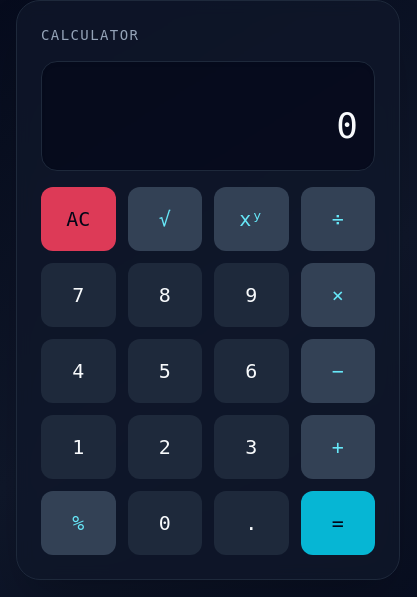
Scenario: <Calculator /> › performs a full add cycle via backend and shows pending indicator
This screenshot has width=417, height=597.
Step 1. Click the button "5" → (165, 371), box [128, 339, 202, 403]
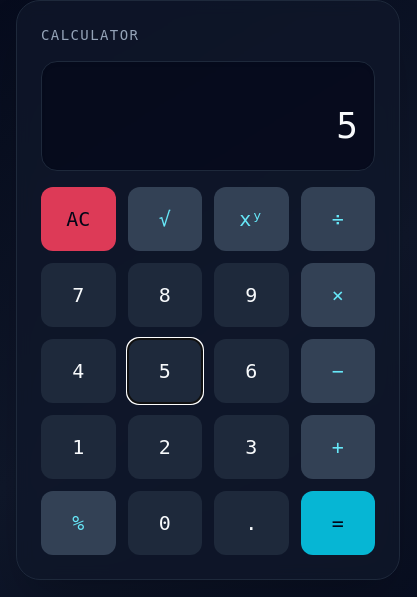
Step 2. Click the button named "add" → (338, 447), box [300, 415, 375, 479]
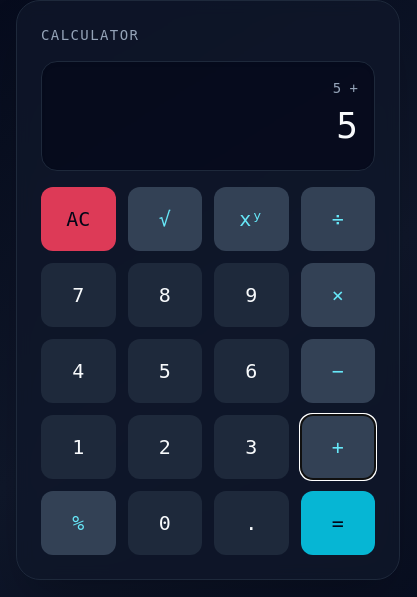
expect the text with test id "pending-indicator" reads "5 +": met, box [333, 80, 358, 96]
Step 3. Click the button "3" → (251, 447), box [214, 415, 288, 479]
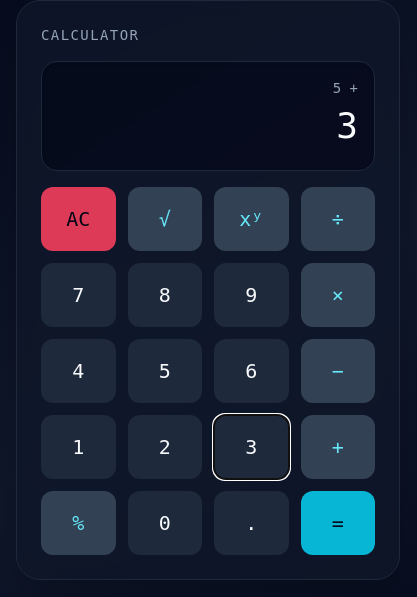
Step 4. Click the button named "equals" → (338, 523), box [300, 491, 375, 555]
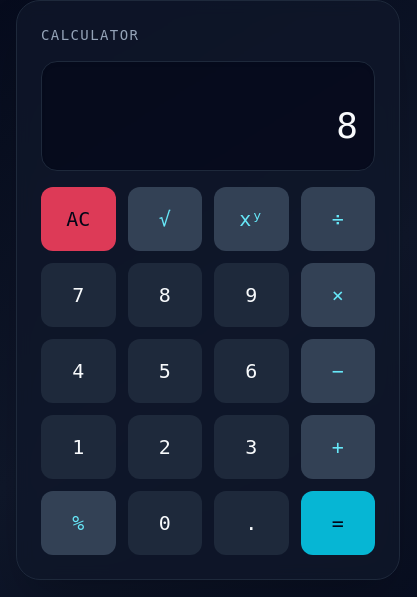
expect the text with test id "display" reads "8": met, box [336, 105, 358, 146]
